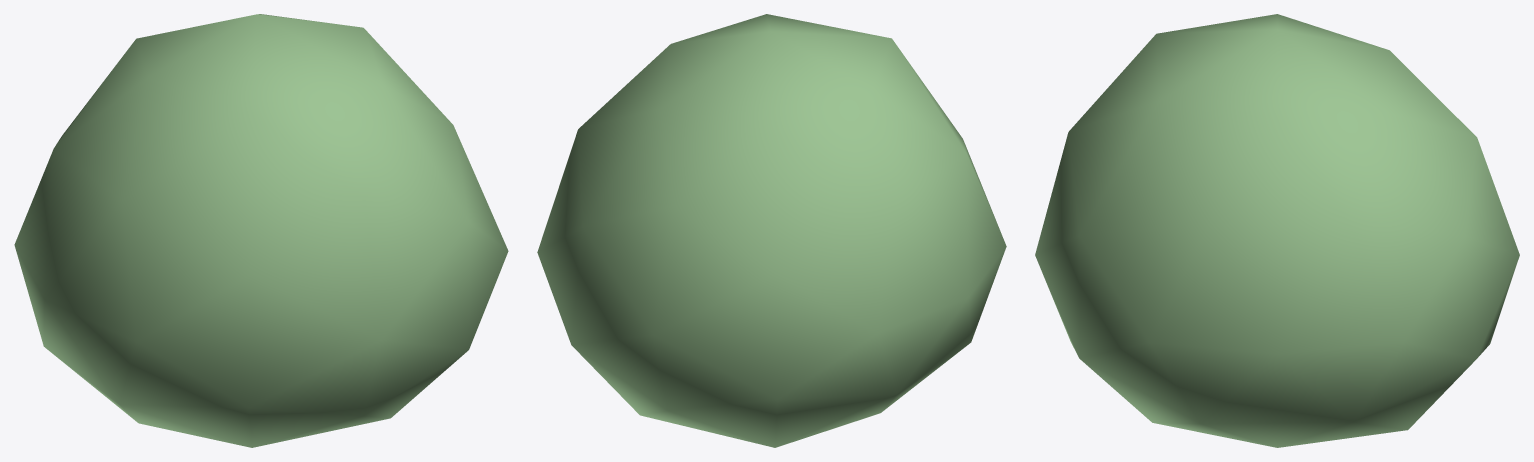
File: tree-broadleaf-b-crown-far.glb
The picture shows the model from 3 angles, left to right: view 1: azimuth 30°, elevation 25°; view 2: azimuth 150°, elevation 25°; view 3: azimuth 270°, elevation 25°; orthographic projection. The views are drawn at different scales.
Visible parts, largest first — view 1: tree-broadleaf-b-crown-far; view 2: tree-broadleaf-b-crown-far; view 3: tree-broadleaf-b-crown-far.
Part boxes in pixels (<box>): tree-broadleaf-b-crown-far: <box>14,14,508,447</box>; tree-broadleaf-b-crown-far: <box>537,14,1006,447</box>; tree-broadleaf-b-crown-far: <box>1035,14,1519,447</box>.
Bounding box in the file's own units: 0.7175 × 0.6568 × 0.7394.
